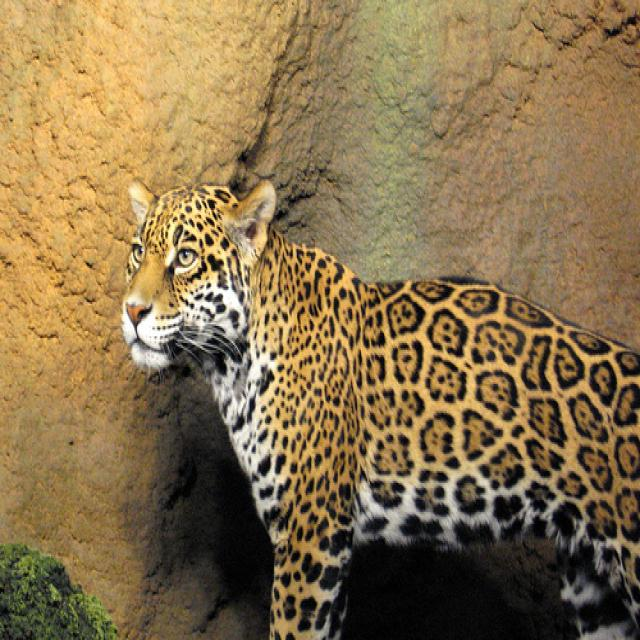Leopard: (117, 167, 638, 637)
